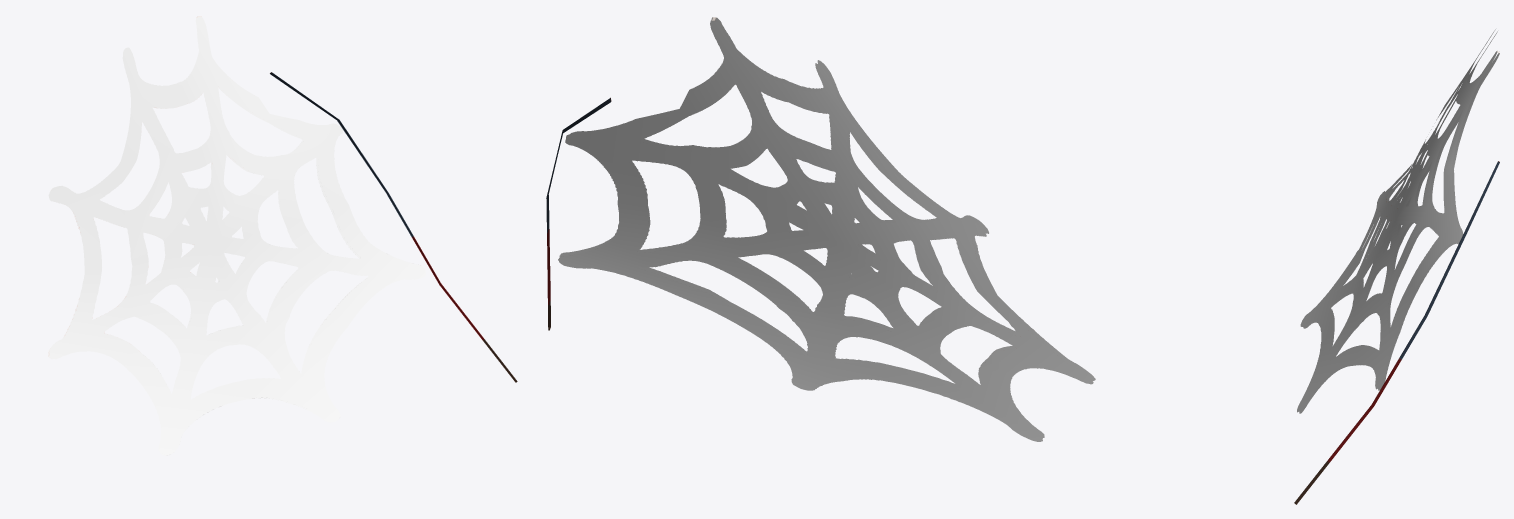
The model's file is Spider_web_3.FBX.
The picture shows the model from 3 angles, left to right: view 1: azimuth 30°, elevation 25°; view 2: azimuth 150°, elevation 25°; view 3: azimuth 270°, elevation 25°; orthographic projection. The views are drawn at different scales.
Visible parts, largest first — view 1: Spider_web; view 2: Spider_web; view 3: Spider_web.
Boxes of the visible parts, x1,y1,x2,y2 form: Spider_web: (48,16,517,455); Spider_web: (546,17,1095,441); Spider_web: (1294,29,1499,504).
Bounding box in the file's own units: 0.9395 × 0.6259 × 0.3321.
